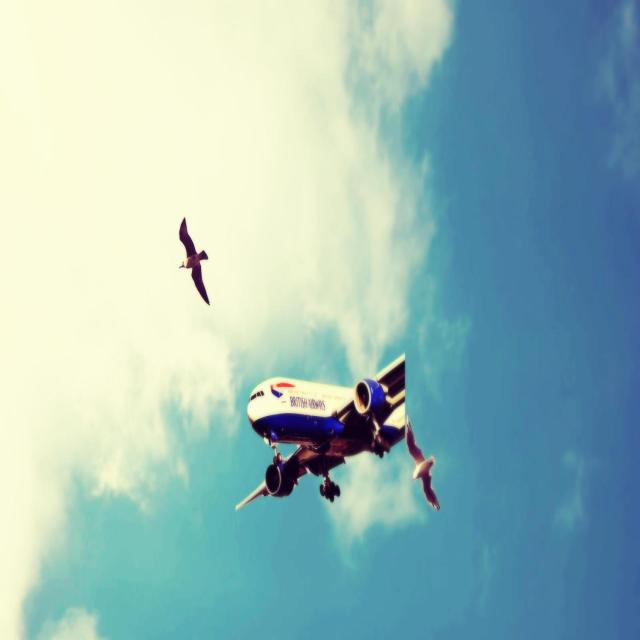airplane: (236, 352, 406, 516)
